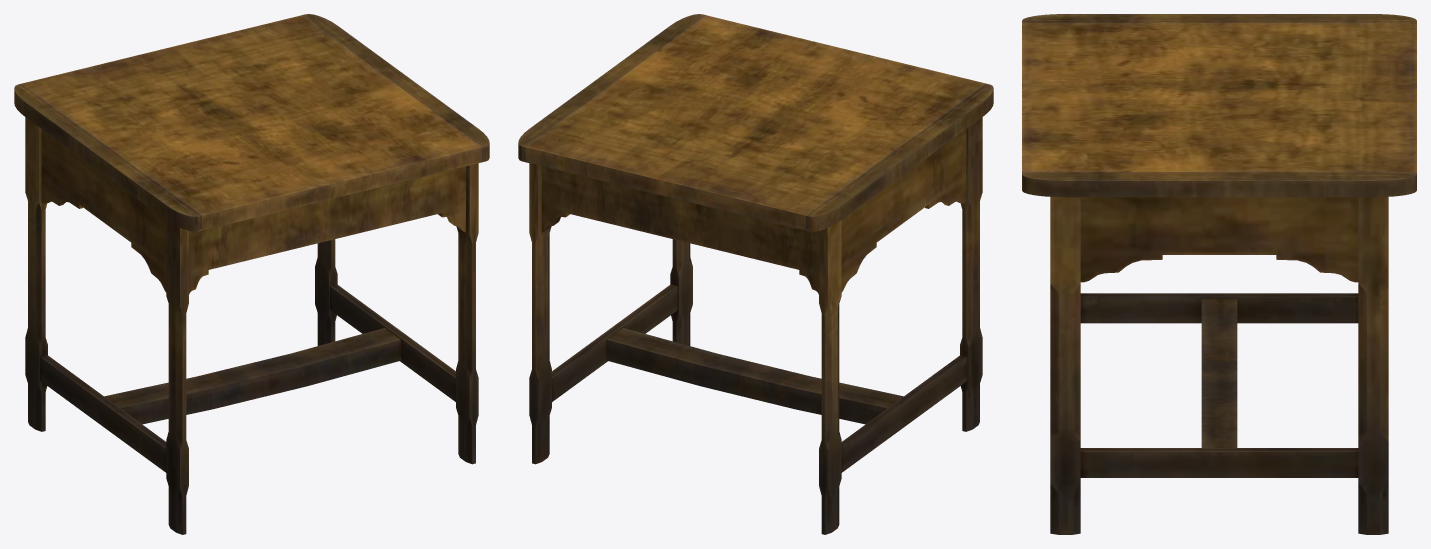
The model's file is ph-woodentable-01.glb.
3 renders of one model, left to right at view 1: azimuth 30°, elevation 25°; view 2: azimuth 150°, elevation 25°; view 3: azimuth 270°, elevation 25°, orthographic. The views are drawn at different scales.
Visible parts, largest first — view 1: WoodenTable_01; view 2: WoodenTable_01; view 3: WoodenTable_01.
Boxes of the visible parts, x1,y1,x2,y2 form: WoodenTable_01: (14,14,489,534); WoodenTable_01: (518,14,993,534); WoodenTable_01: (1022,14,1416,534).
Size of the model in its own units: 1 by 1 by 1.
1 material, 1 textured.
